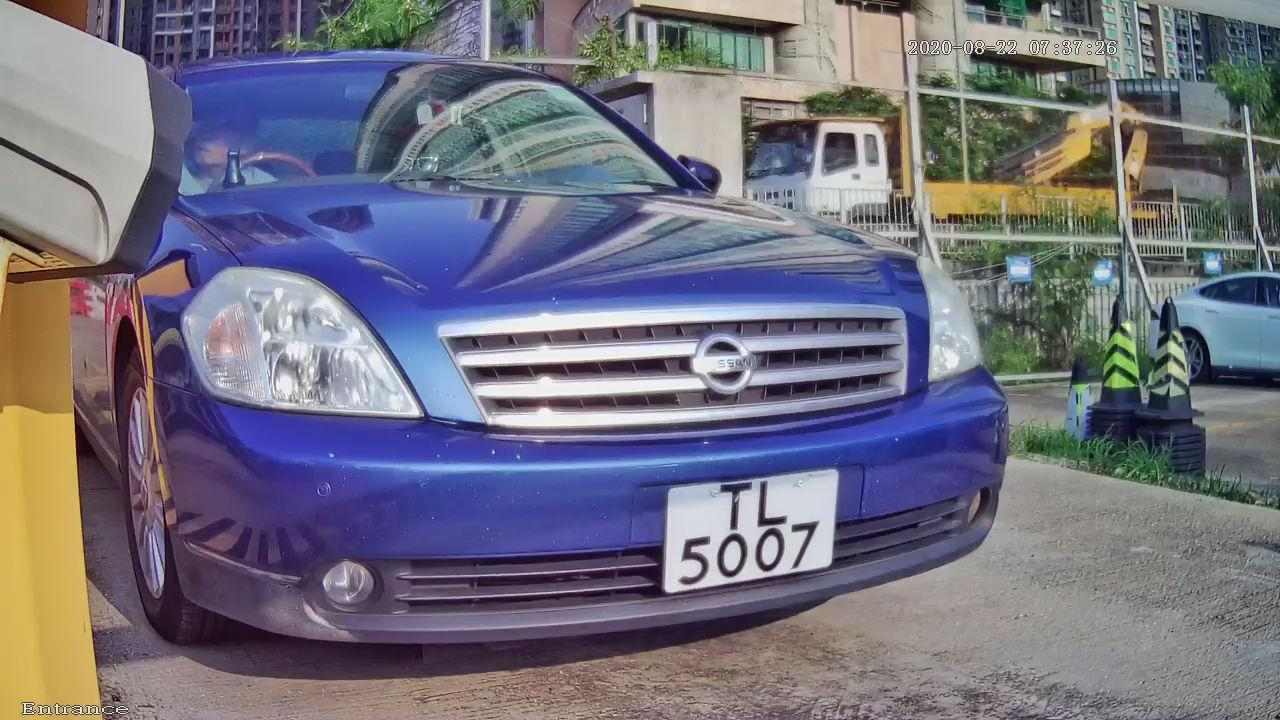Car: (23, 17, 1098, 692)
License Plate: (641, 463, 852, 602)
